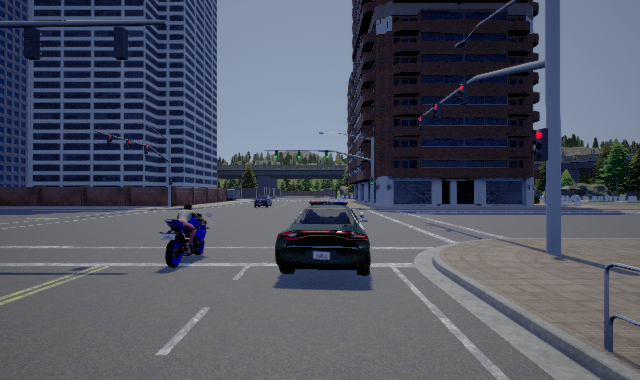traffic_light: (532, 128, 548, 161), (458, 83, 468, 105), (433, 103, 441, 121), (418, 115, 425, 130), (107, 135, 113, 146), (126, 140, 131, 150), (144, 145, 149, 154), (169, 177, 173, 185), (370, 177, 373, 185), (325, 150, 328, 158), (275, 150, 278, 158), (298, 150, 300, 158)
vehicle: (275, 201, 371, 276), (159, 202, 213, 268), (253, 194, 274, 208)
